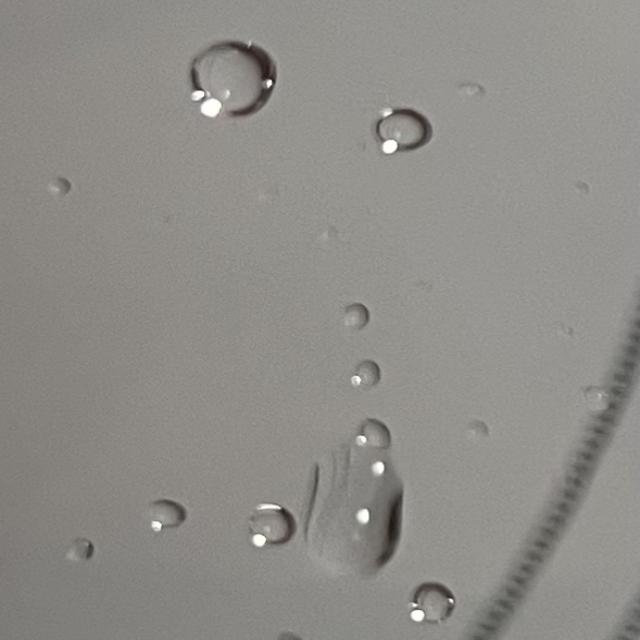raindrop: (289, 444, 401, 581), (166, 39, 281, 135), (227, 488, 294, 550), (25, 168, 102, 220), (362, 98, 426, 155), (400, 575, 458, 623), (132, 498, 191, 530), (346, 354, 393, 394), (319, 287, 366, 324), (352, 412, 398, 441), (50, 527, 94, 557)
